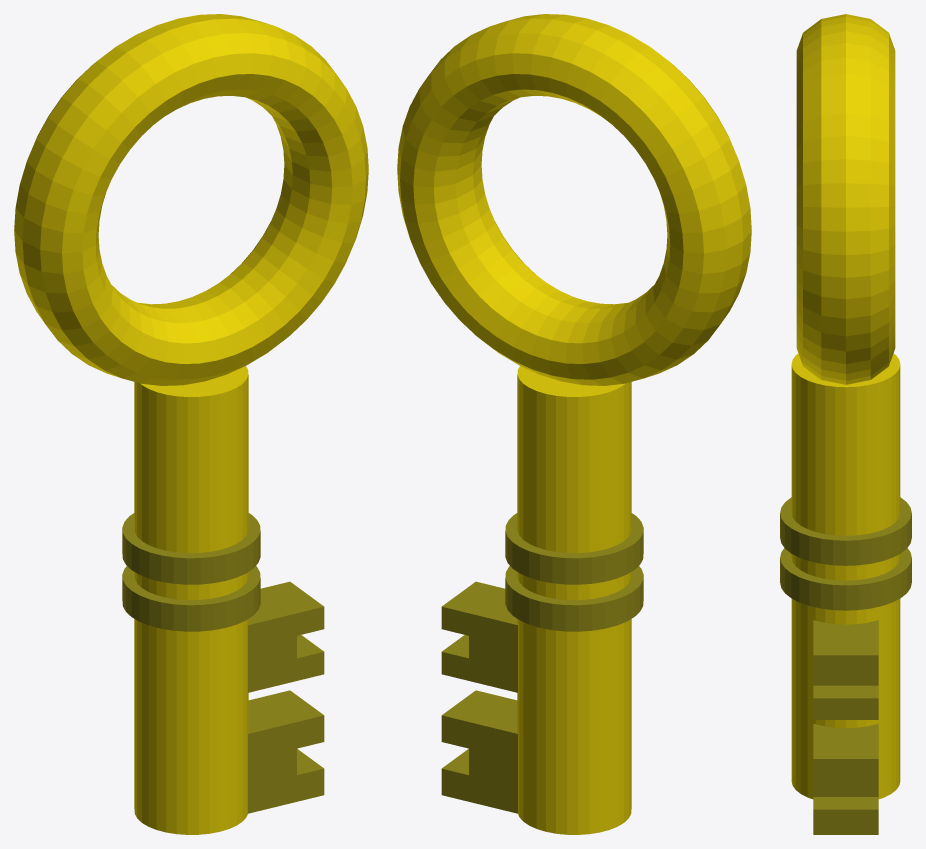
Rendered from Key1b.fbx.
The picture shows the model from 3 angles, left to right: view 1: azimuth 30°, elevation 25°; view 2: azimuth 150°, elevation 25°; view 3: azimuth 270°, elevation 25°; orthographic projection. The views are drawn at different scales.
Parts seen in each view (by area): view 1: Torus.017, Keypart1.001, Keypart6.001, Keypart5.001, Keypart3.001, Keypart4.001; view 2: Torus.017, Keypart1.001, Keypart6.001, Keypart5.001, Keypart3.001, Keypart4.001; view 3: Torus.017, Keypart1.001, Keypart6.001, Keypart5.001, Keypart3.001, Keypart4.001.
Boxes of the visible parts, x1=… form: Torus.017: x1=14, y1=14, x2=368, y2=385; Keypart1.001: x1=134, y1=366, x2=248, y2=834; Keypart6.001: x1=248, y1=690, x2=324, y2=813; Keypart5.001: x1=248, y1=581, x2=324, y2=692; Keypart3.001: x1=122, y1=513, x2=260, y2=584; Keypart4.001: x1=122, y1=566, x2=260, y2=631; Torus.017: x1=397, y1=14, x2=751, y2=385; Keypart1.001: x1=517, y1=366, x2=631, y2=834; Keypart6.001: x1=441, y1=690, x2=517, y2=813; Keypart5.001: x1=441, y1=581, x2=517, y2=692; Keypart3.001: x1=505, y1=513, x2=643, y2=584; Keypart4.001: x1=505, y1=566, x2=643, y2=631; Torus.017: x1=796, y1=14, x2=895, y2=384; Keypart1.001: x1=791, y1=353, x2=900, y2=799; Keypart6.001: x1=813, y1=723, x2=878, y2=834; Keypart5.001: x1=813, y1=620, x2=878, y2=719; Keypart3.001: x1=780, y1=497, x2=911, y2=565; Keypart4.001: x1=780, y1=548, x2=911, y2=610.
Size of the model in its own units: 53.14 by 118 by 18.86.
